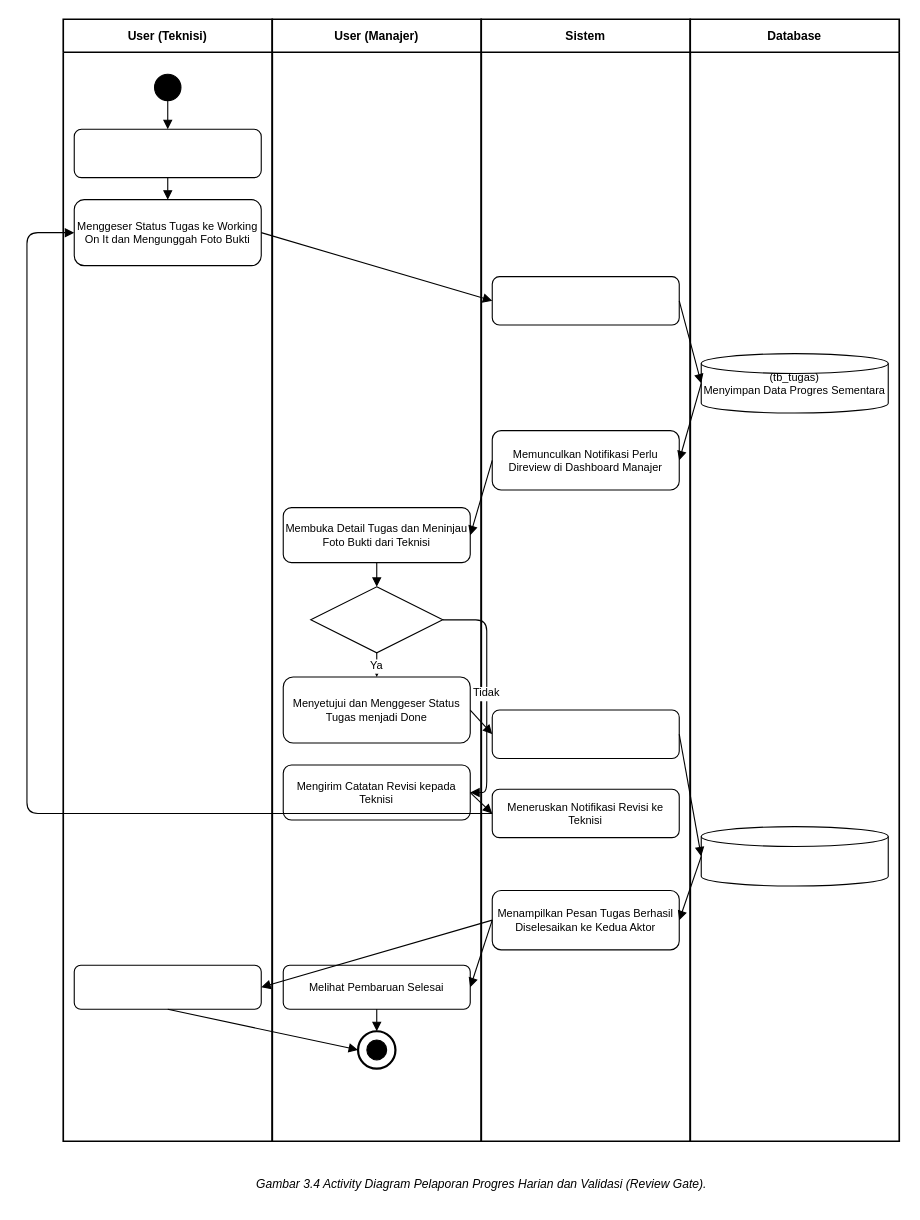
Some shapes in this 920 by 1220 pixel diagram are drawn without their labels. Each missing label, with the centre of its shape:
"(tb_tugas) Memperbarui Status Akhir Tugas" goes at [794,856].
"Apakah Hasil Pekerjaan Valid?" goes at [376,619].
"Melihat Tugas Selesai di Kanban" goes at [167,986].
"Membuka Papan Kanban Proyek" goes at [167,153].
"Memproses Persetujuan Tugas Selesai" goes at [585,733].
"Menerima Data Pembaruan Tugas dan File Foto" goes at [585,300].
